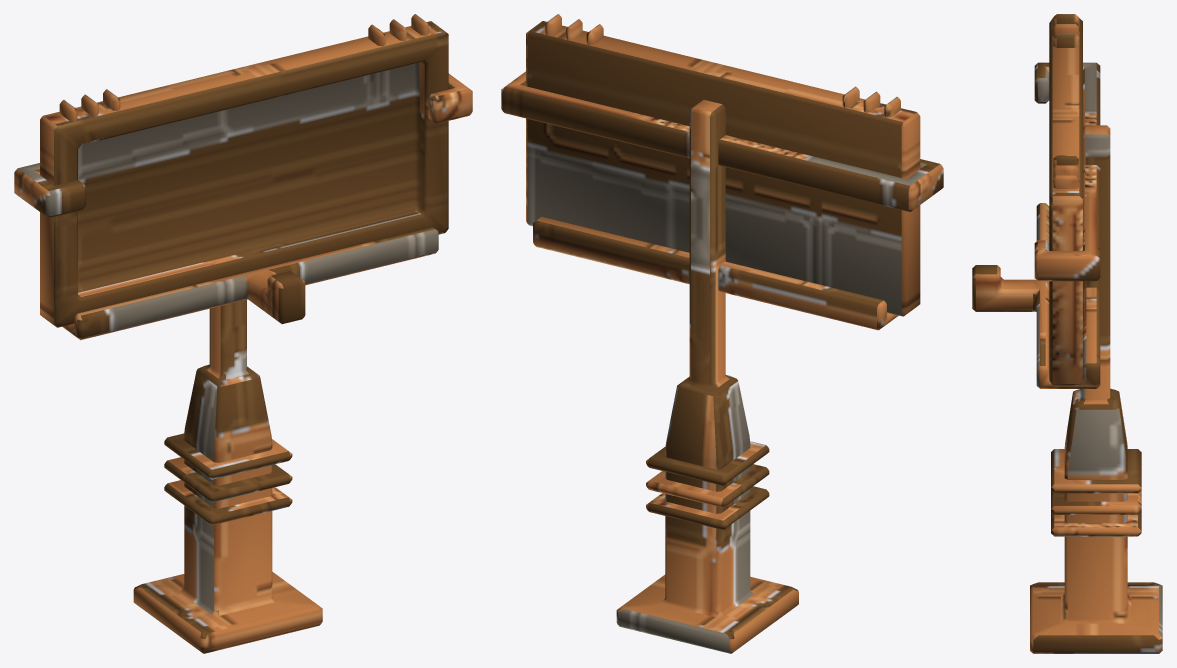
The model's file is sign_LOD0.fbx.
3 renders of one model, left to right at view 1: azimuth 30°, elevation 25°; view 2: azimuth 150°, elevation 25°; view 3: azimuth 270°, elevation 25°, orthographic. The views are drawn at different scales.
Parts seen in each view (by area): view 1: sign_LOD0; view 2: sign_LOD0; view 3: sign_LOD0.
Boxes of the visible parts, box(x1,y1,x2,y2) form: sign_LOD0: box(14, 14, 472, 653); sign_LOD0: box(501, 14, 943, 653); sign_LOD0: box(972, 14, 1162, 653).
Size of the model in its own units: 132 by 168 by 54.27.
